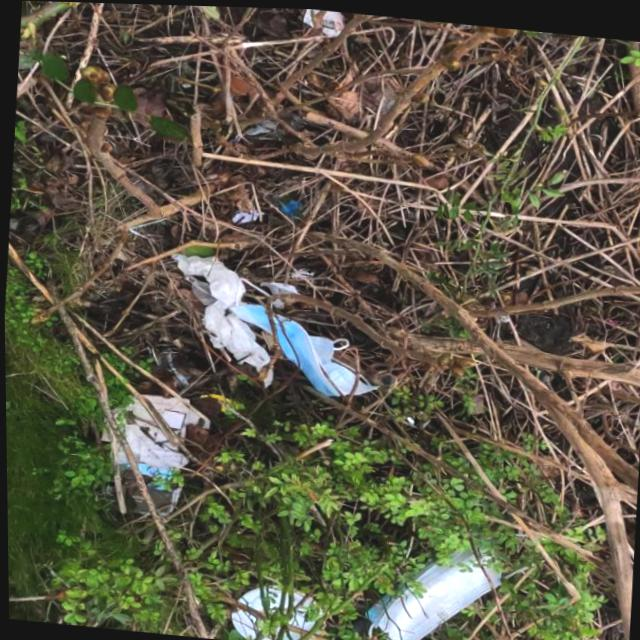Mask: (356, 512, 550, 640), (220, 297, 387, 399)
Paper: (160, 248, 282, 387), (292, 7, 346, 35)
